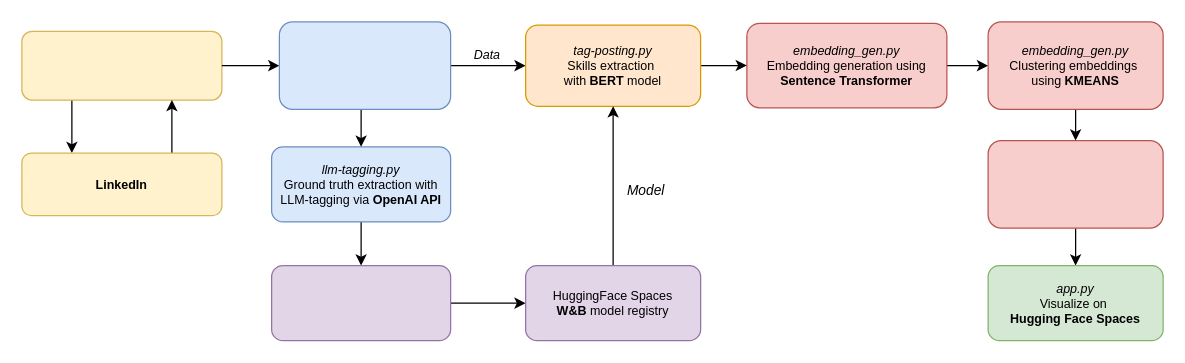
Some shapes in this 1185 by 363 pixel diagram are drawn without their labels. The shapes that lost their labels are listed below. From the top down, each one's centre as x and y in pixels, then its label:
At point (121, 65): "linkedin_scrapping.py Scraping using Rapid API".
At point (364, 65): "tag-posting.py Parsing & Sentence Tokenization using spacy".
At point (1075, 183): "e mbedding_gen.py Dimensionality reduction using UMAP".
At point (360, 302): "train.py BERT model finetuning".
